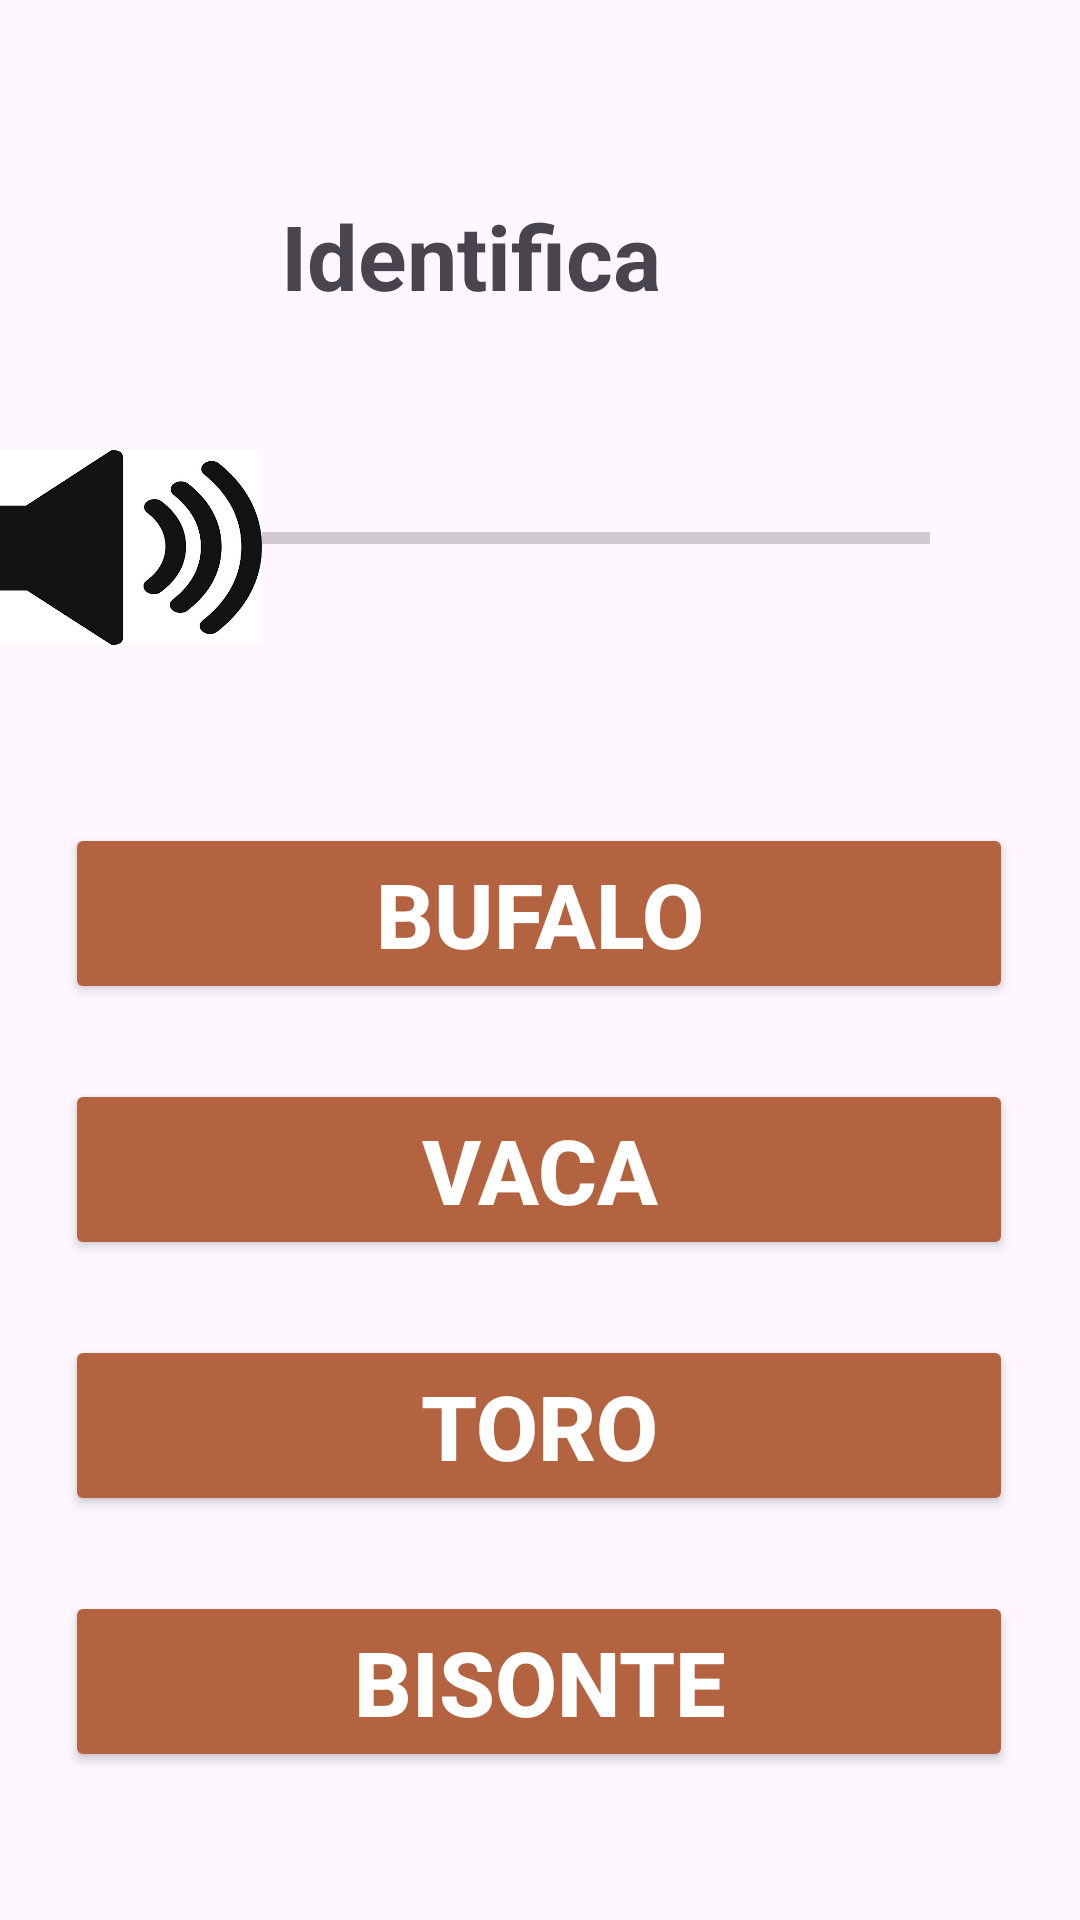

Icon bounding boxes for this 1080w x 1920h phone screenshot, format (x1, y1, x2, y2):
audio: (0, 450, 222, 645)
